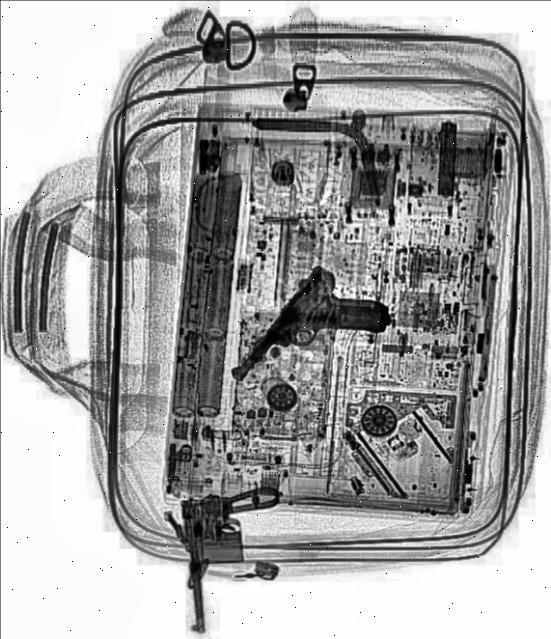Gun: (228, 250, 397, 434), (180, 481, 296, 635)
